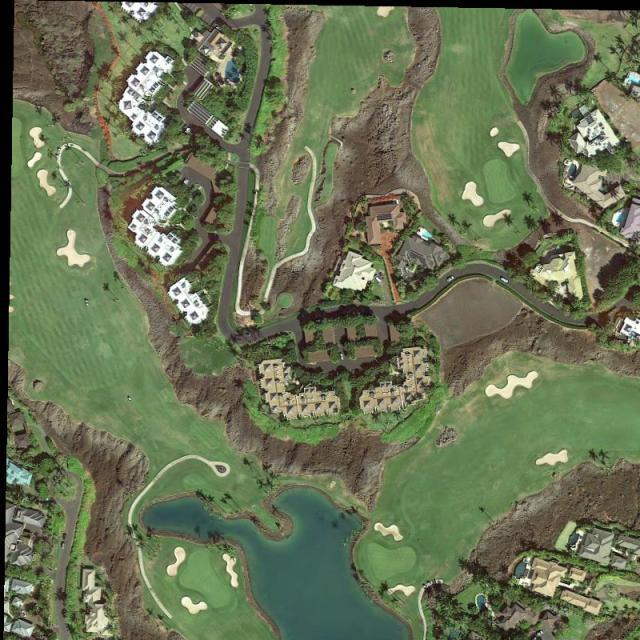vehicle: (374, 275, 383, 284), (535, 630, 545, 638), (446, 275, 456, 283), (378, 271, 386, 280), (181, 178, 190, 186), (183, 126, 191, 134), (500, 277, 510, 283), (84, 299, 90, 307), (61, 542, 66, 550), (63, 534, 68, 541)
